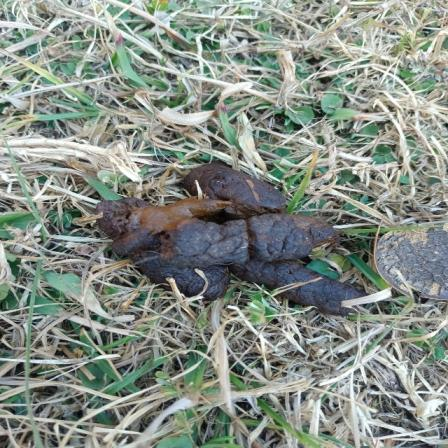dog-poop: (87, 154, 368, 318)
